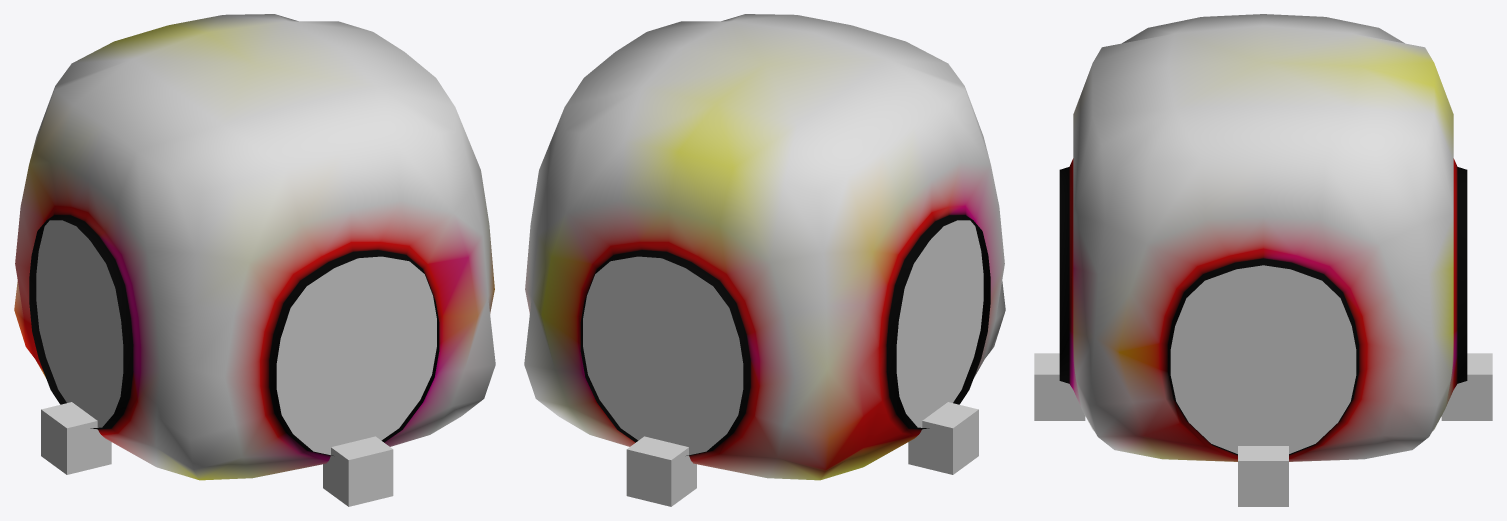
The model's file is CorridorCube.fbx.
3 renders of one model, left to right at view 1: azimuth 30°, elevation 25°; view 2: azimuth 150°, elevation 25°; view 3: azimuth 270°, elevation 25°, orthographic.
Visible parts, largest first — view 1: CorridorCube_walls, CorridorCube_Door1, CorridorCube_Door4, CoridorCube_DoorSnap1, CoridorCube_DoorSnap4; view 2: CorridorCube_walls, CorridorCube_Door3, CorridorCube_Door4, CoridorCube_DoorSnap3, CoridorCube_DoorSnap4; view 3: CorridorCube_walls, CorridorCube_Door2, CoridorCube_DoorSnap2, CoridorCube_DoorSnap3, CoridorCube_DoorSnap1.
Part boxes in pixels (x1,y1,x2,y2): CorridorCube_walls: [14, 14, 495, 480]; CorridorCube_Door1: [276, 256, 436, 455]; CorridorCube_Door4: [36, 220, 123, 427]; CoridorCube_DoorSnap1: [323, 436, 393, 506]; CoridorCube_DoorSnap4: [41, 402, 111, 474]; CorridorCube_walls: [524, 14, 1005, 480]; CorridorCube_Door3: [583, 256, 743, 455]; CorridorCube_Door4: [896, 220, 983, 427]; CoridorCube_DoorSnap3: [626, 436, 696, 506]; CoridorCube_DoorSnap4: [908, 402, 978, 474]; CorridorCube_walls: [1059, 14, 1467, 461]; CorridorCube_Door2: [1170, 265, 1356, 453]; CoridorCube_DoorSnap2: [1238, 446, 1288, 506]; CoridorCube_DoorSnap3: [1441, 353, 1492, 420]; CoridorCube_DoorSnap1: [1034, 353, 1085, 420].
Bounding box in the file's own units: 900 × 753 × 900.
